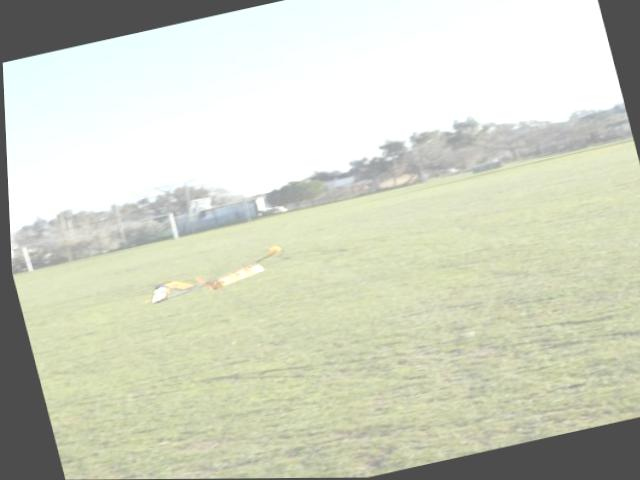iha: (137, 239, 289, 304)
